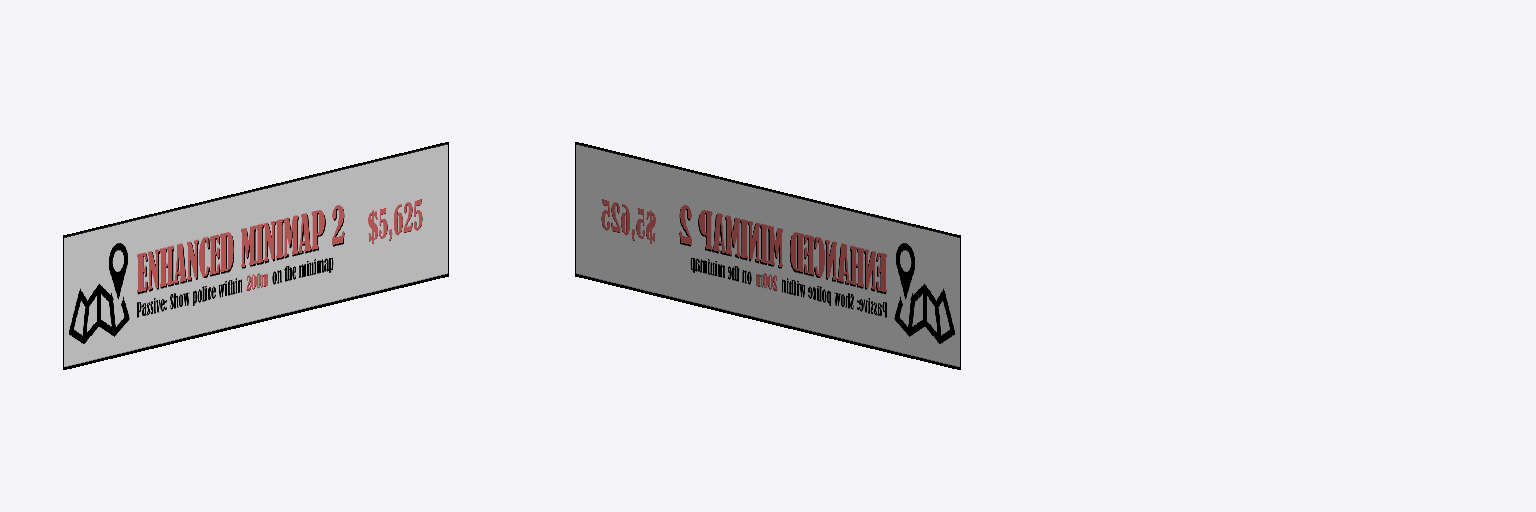
3 views of the same model, side by side, from view 1: azimuth 30°, elevation 25°; view 2: azimuth 150°, elevation 25°; view 3: azimuth 270°, elevation 25° (orthographic).
Parts seen in each view (by area): view 1: Plane.005; view 2: Plane.005; view 3: none.
Boxes of the visible parts, <box> form: Plane.005: <box>63,142,448,369</box>; Plane.005: <box>575,142,960,369</box>.
Size of the model in its own units: 0.9 by 0.3 by 0.
1 materials, 1 textured.